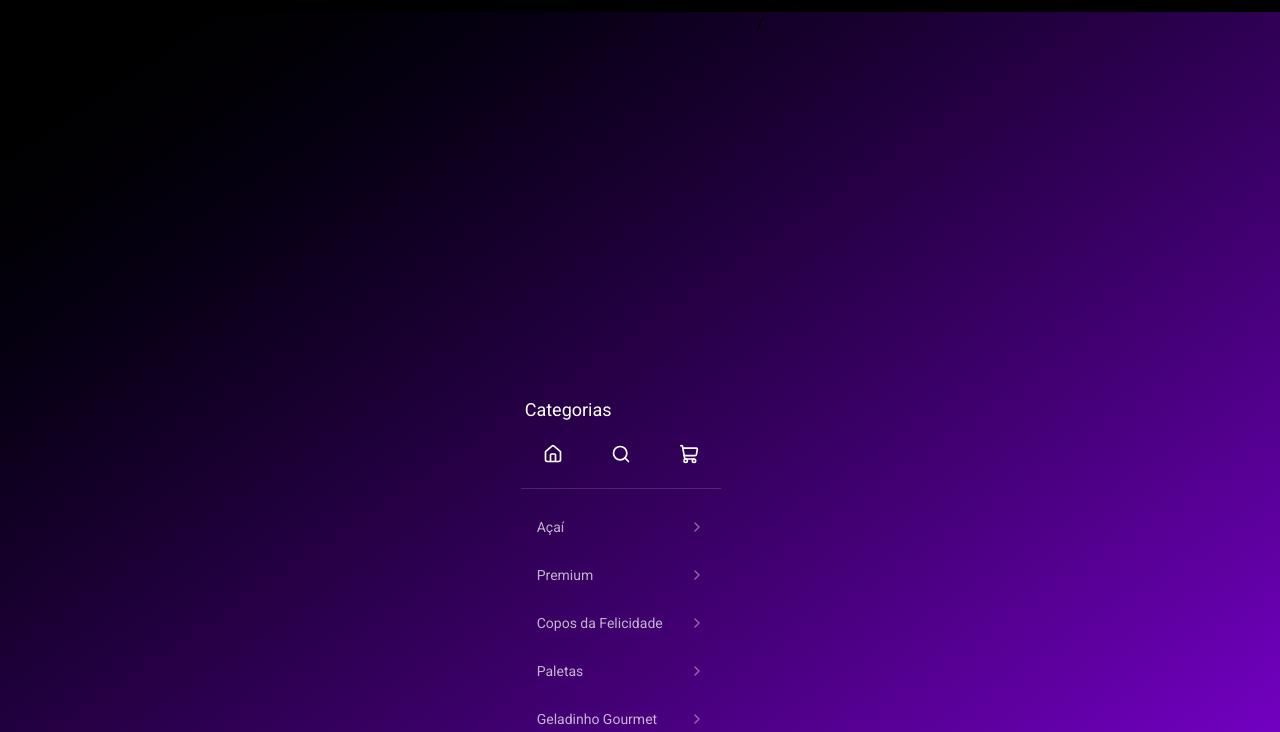
AppContentShell › should navigate to a category when its desktop link is selected
Click the link to "/acai" at (550, 527), box [537,519,705,535]
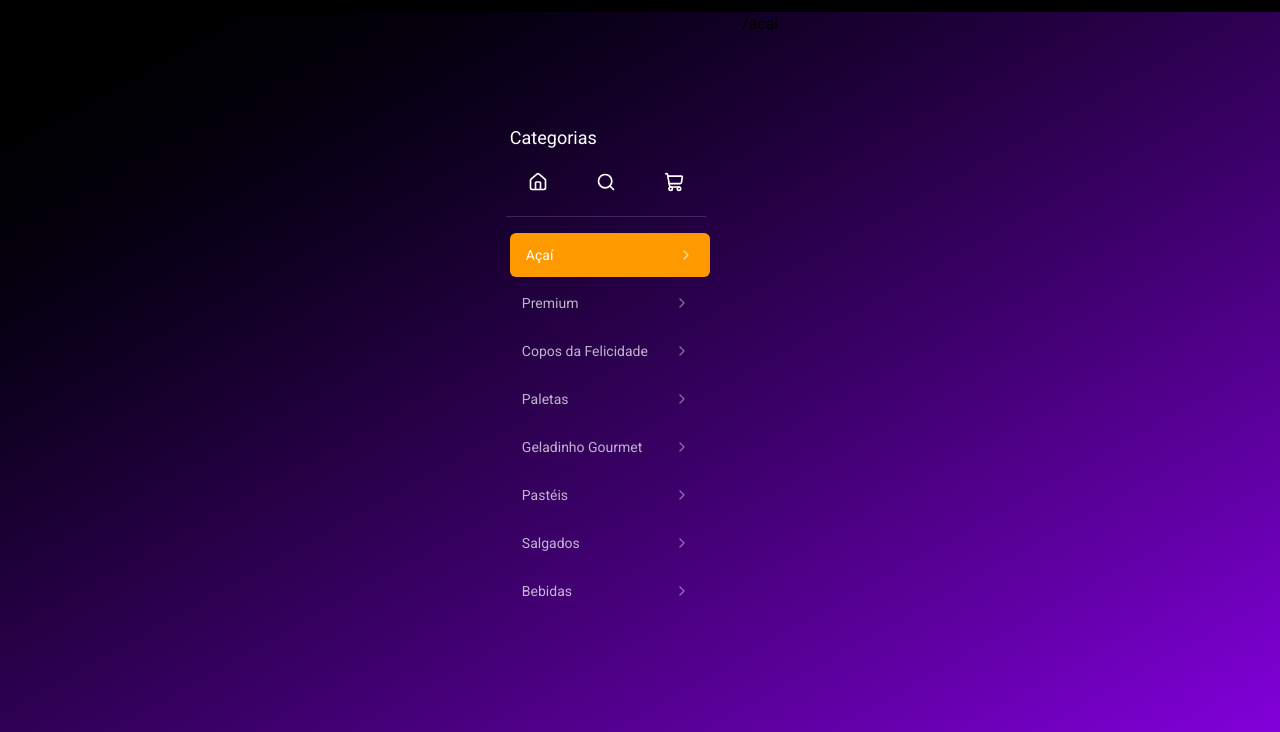
Check: the text "/acai" is shown, box [742,14,778,33]
